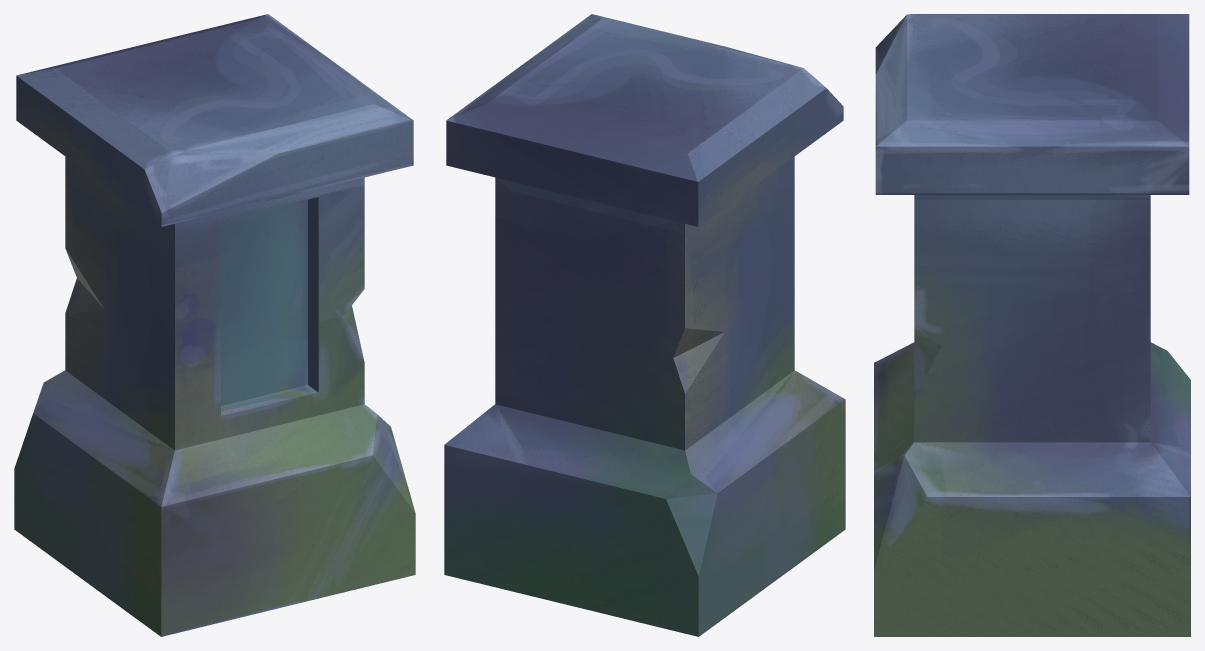
The model's file is stairs_short_pillar.fbx.
3 renders of one model, left to right at view 1: azimuth 30°, elevation 25°; view 2: azimuth 150°, elevation 25°; view 3: azimuth 270°, elevation 25°, orthographic. The views are drawn at different scales.
Visible parts, largest first — view 1: Plane.001; view 2: Plane.001; view 3: Plane.001.
Boxes of the visible parts, x1,y1,x2,y2 form: Plane.001: (14,14,415,636); Plane.001: (444,14,845,636); Plane.001: (874,14,1190,636).
Size of the model in its own units: 0.862 by 1.51 by 0.862.
Materials: 1 (1 with a texture image).
